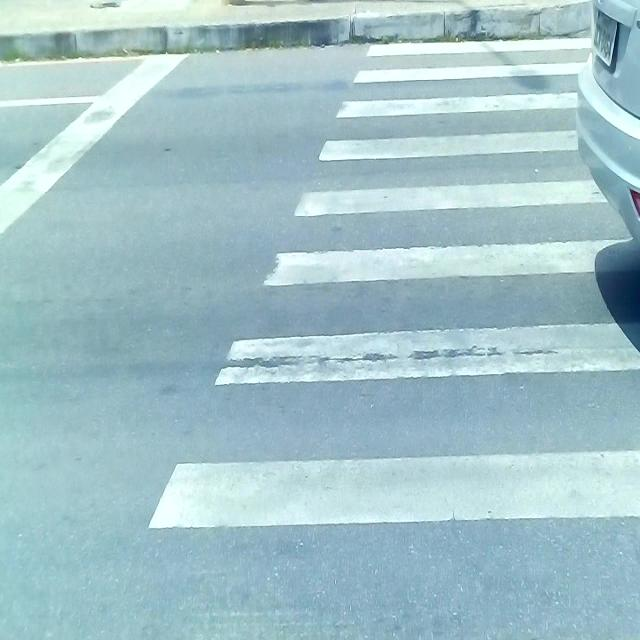crosswalk: (64, 33, 640, 640)
